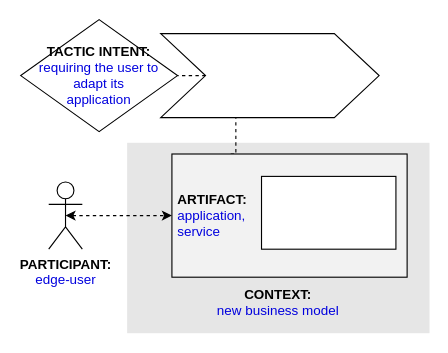
Some shapes in this 448 by 353 pixel diagram are drawn without their labels. The box of each missing label's shape, as (x1, y1, x2, y2) in pixels:
FEATURE: functions composing the application: (260, 175, 396, 249)
INTENT MEASURE: no adequacy between resource needs and use due to technical debt: (160, 32, 379, 118)
